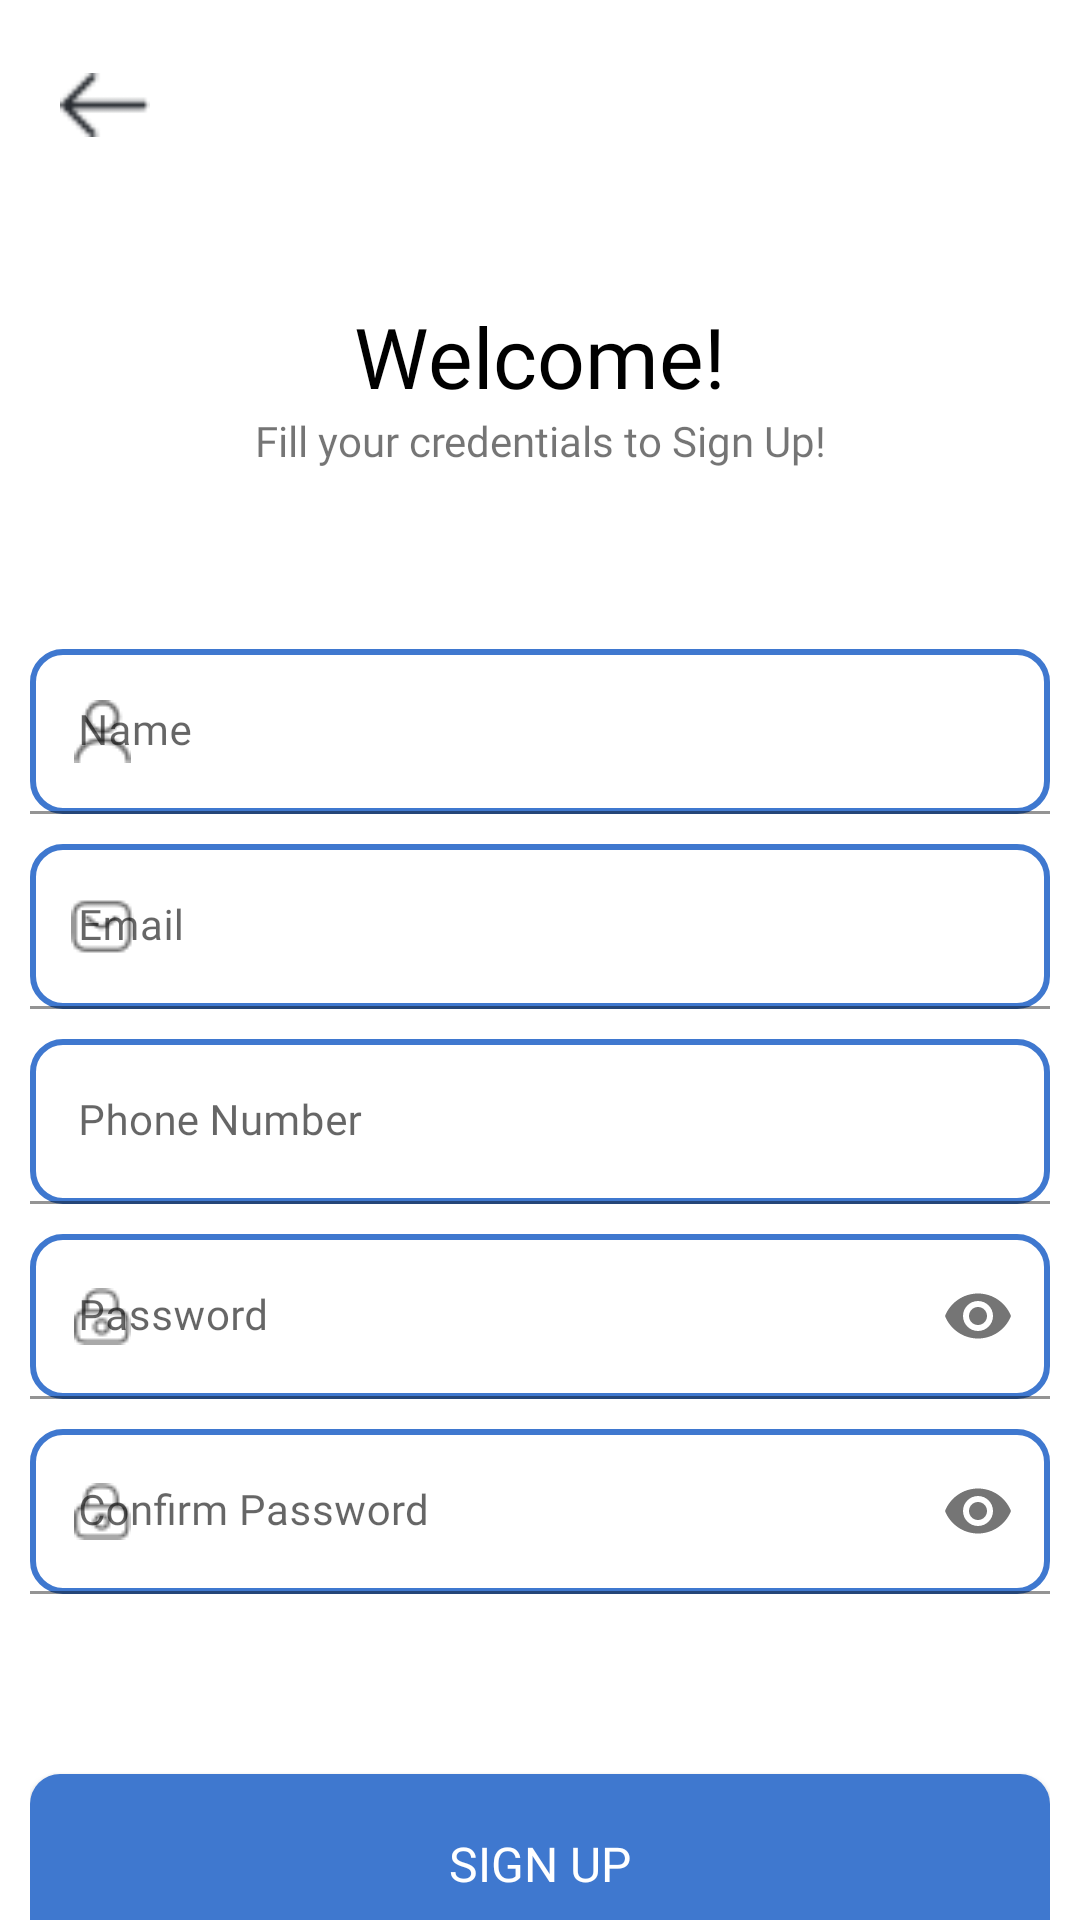

Icons on this 1080px×1920px Android screen, each with its box as (x1, y1, x2, y2):
Back: (60, 73, 148, 137)
